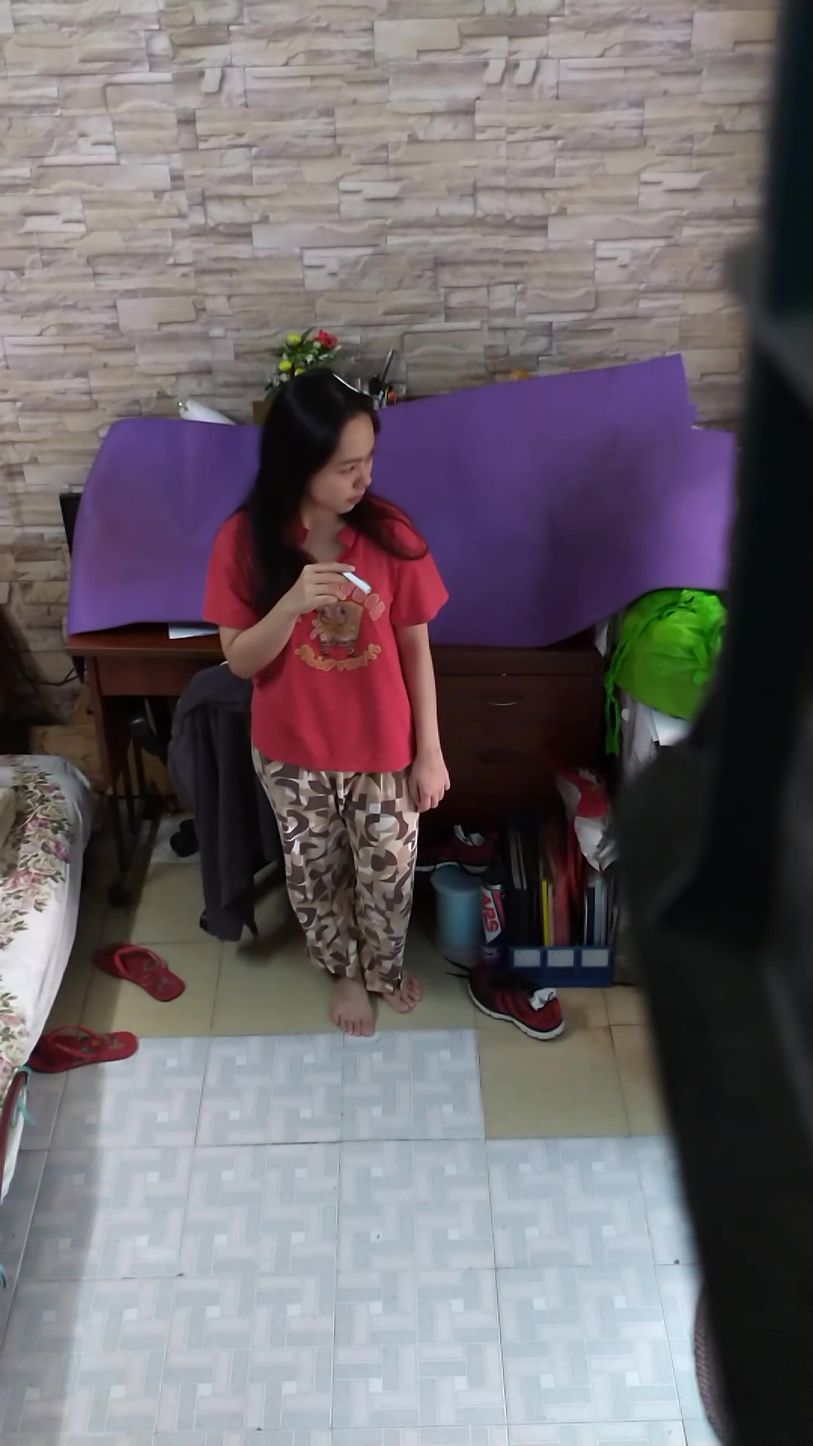cigarette: (340, 572, 377, 599)
person: (193, 363, 454, 1021)
